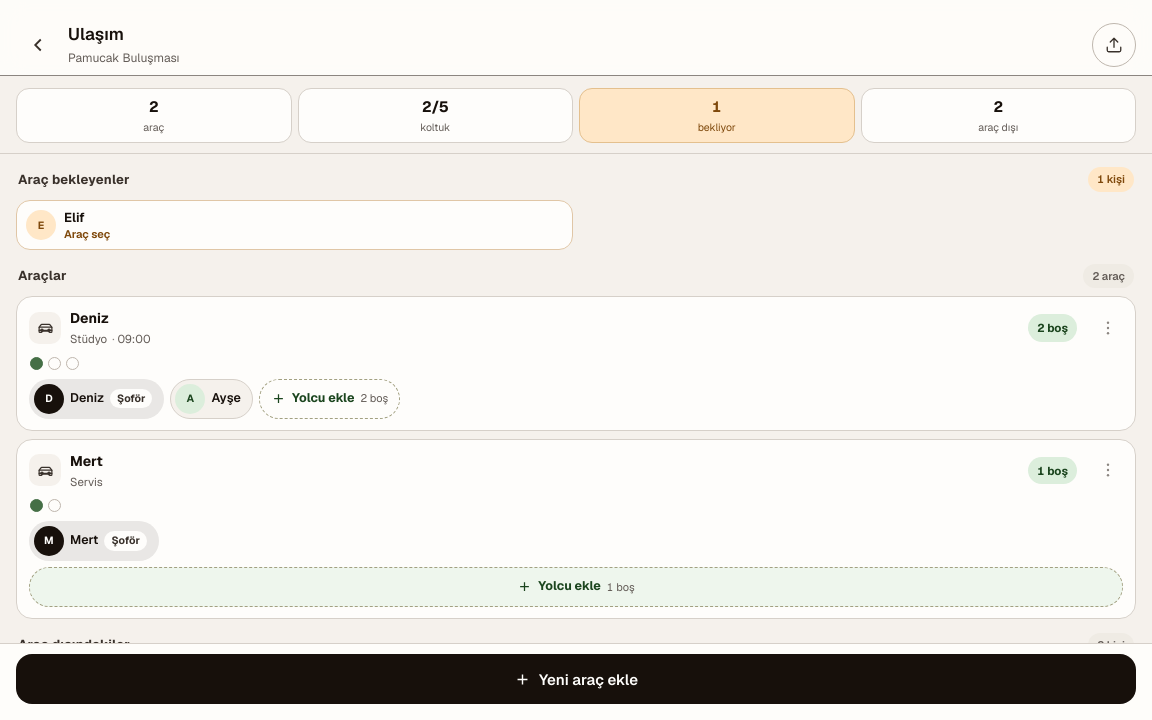
Test: Mobil etkinlik ulaşım planı › atanmış yolcuyu bağlamını kaybetmeden başka araca taşıtır ve hatayı sheet içinde gösterir
This screenshot has width=1152, height=720.
Step 1. Click the button with aria-label "Ayşe için aracı değiştir" → x=212, y=398, box x1=170 y1=378 x2=253 y2=418
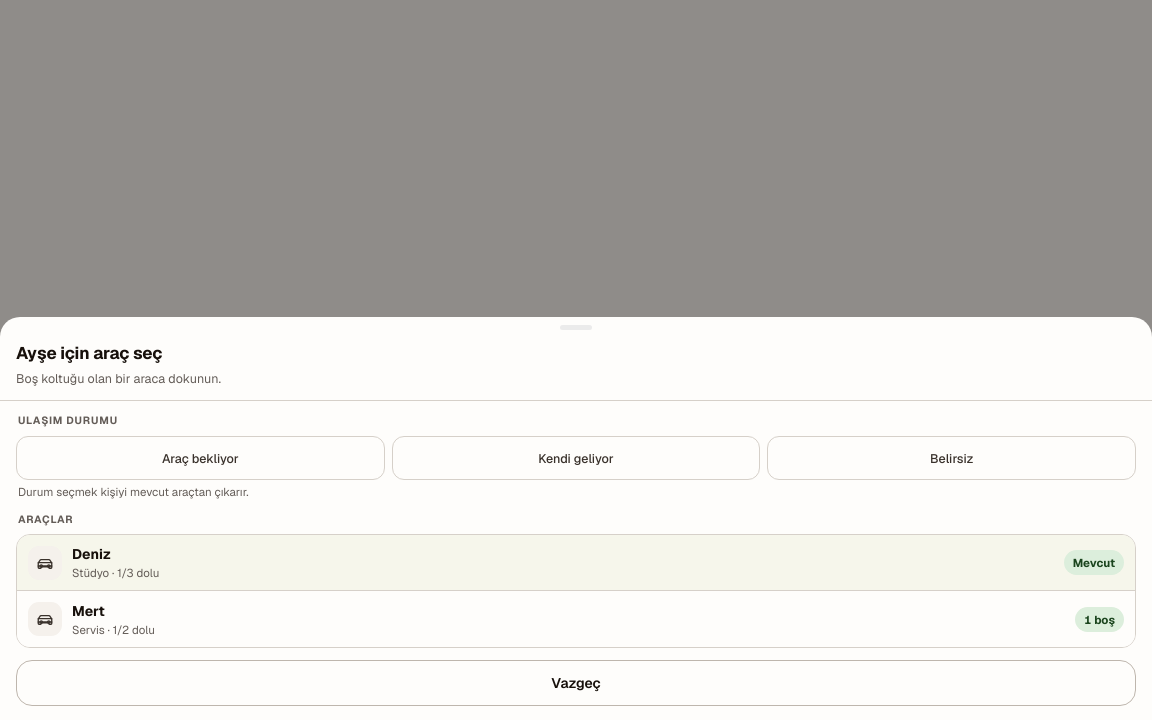
Result: the button "Deniz Stüdyo · 1/3 dolu Mevcut" is disabled at x1=17 y1=535 x2=1135 y2=591
Step 2. Click the button "Mert Servis · 1/2 dolu 1 boş" → x=45, y=619, box x1=17 y1=591 x2=1135 y2=647
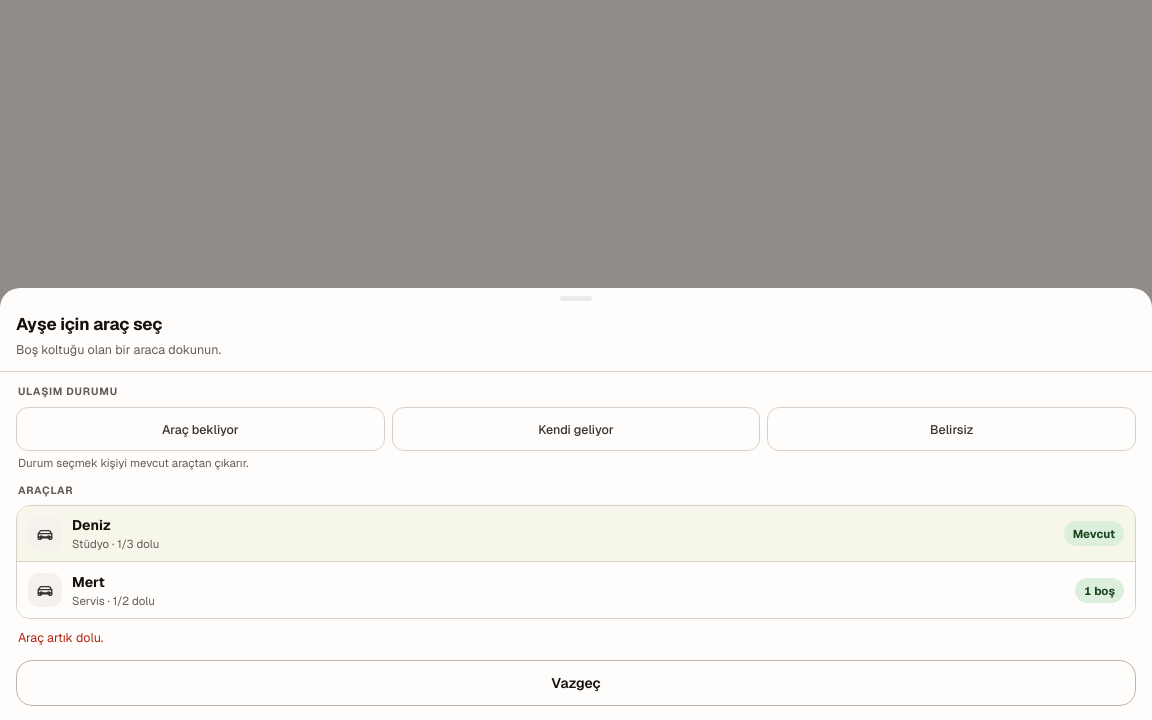
Result: the heading "Ayşe için araç seç" is shown at x1=16 y1=313 x2=162 y2=335
Result: the message reads "Araç artık dolu." at x1=18 y1=629 x2=103 y2=646
